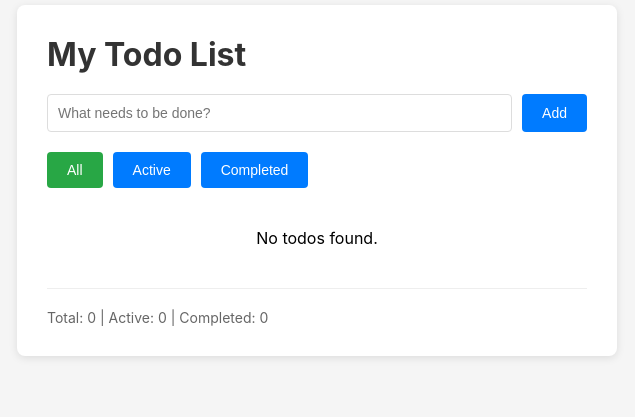
App › shows correct stats
Step 1. Type "Todo 1" into the field with placeholder "What needs to be done?" → coordinates (280, 113), box [47,94,512,132]
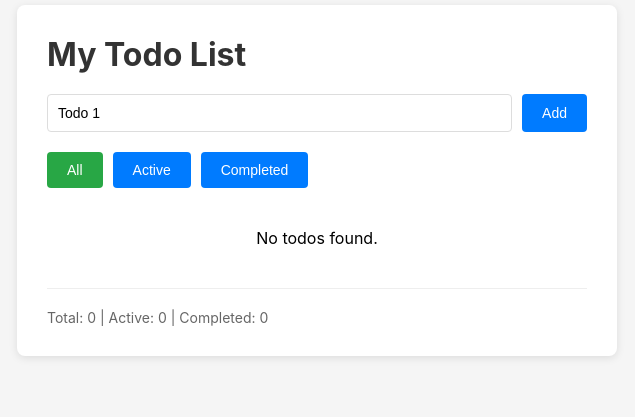
Step 2. Click the button "Add" → coordinates (555, 113), box [522,94,587,132]
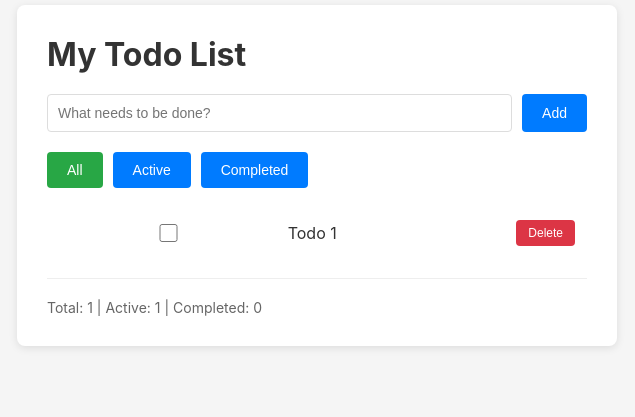
Step 3. Type "Todo 2" into the field with placeholder "What needs to be done?" → coordinates (280, 113), box [47,94,512,132]
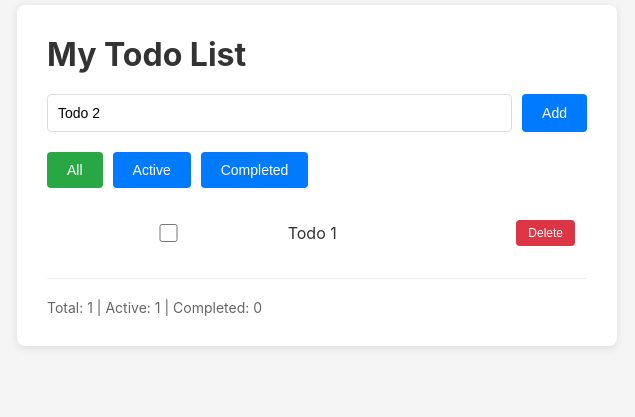
Step 4. Click the button "Add" → coordinates (555, 113), box [522,94,587,132]
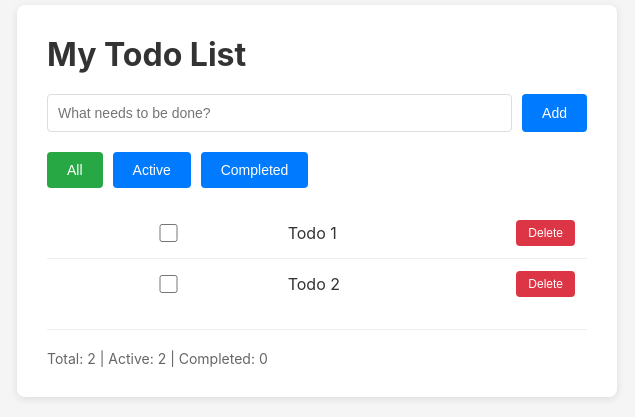
Now the text "Total: 2 | Active: 2 | Completed: 0" is shown, box [47,350,268,367]
